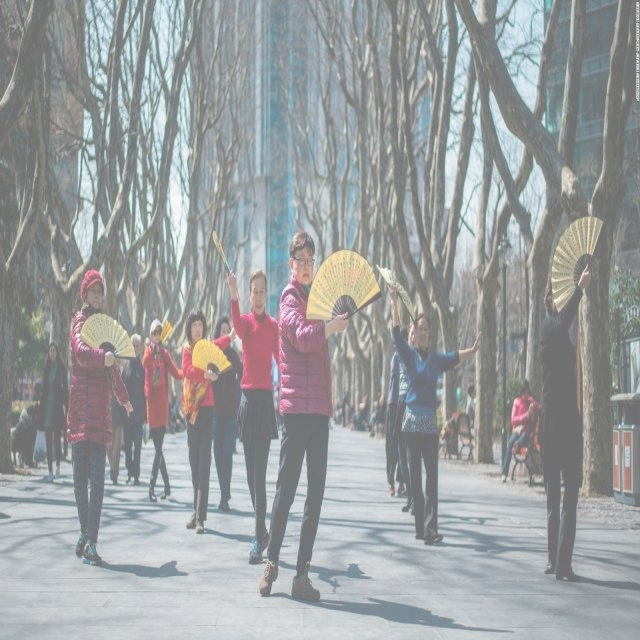pessoa: (258, 226, 383, 604), (388, 278, 483, 548), (64, 266, 138, 570), (537, 259, 593, 585), (226, 266, 282, 566), (180, 304, 238, 536), (140, 316, 183, 504), (389, 282, 419, 516), (210, 314, 244, 512), (36, 337, 72, 482), (498, 376, 544, 488), (384, 296, 408, 498), (321, 379, 397, 438), (120, 332, 148, 487), (6, 378, 46, 477), (105, 356, 124, 487), (162, 394, 190, 437), (58, 408, 70, 465), (464, 382, 476, 434)
